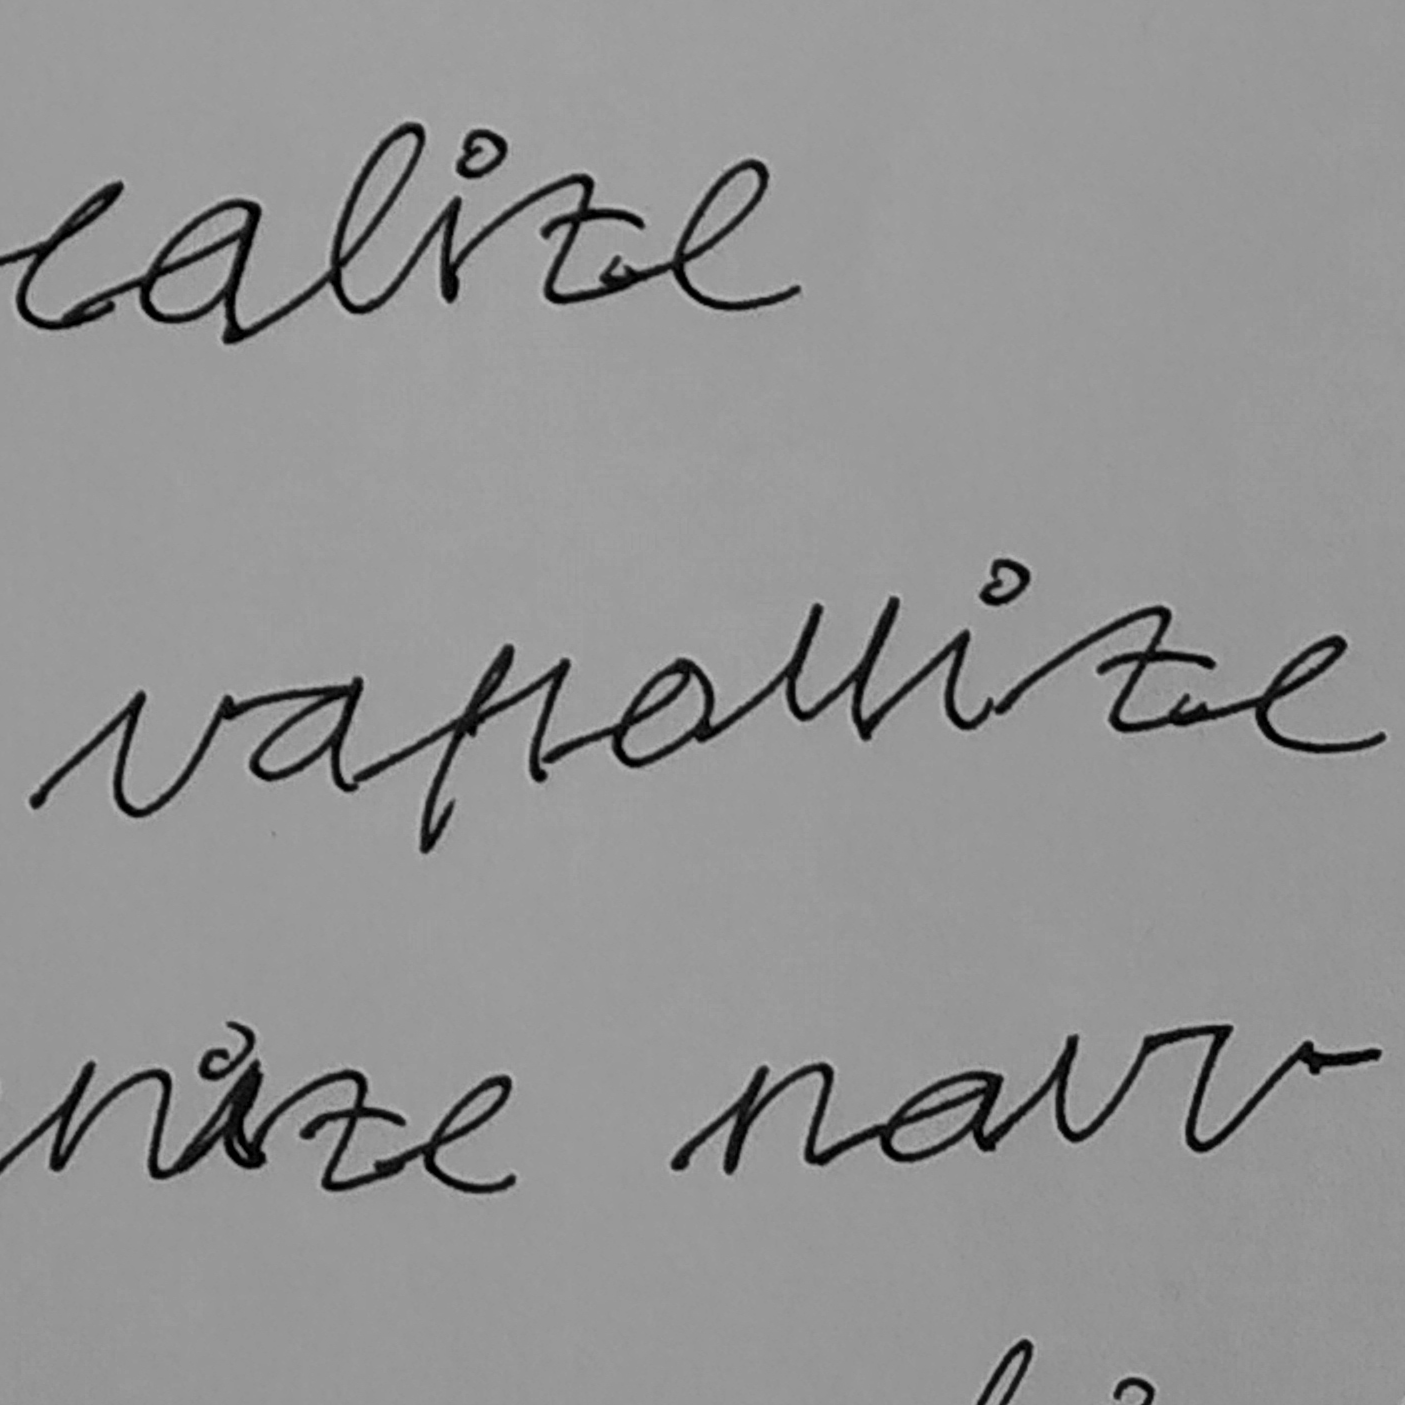a: (241, 672, 372, 798)
e: (1251, 630, 1390, 757)
i: (937, 551, 1037, 733)
o: (603, 654, 726, 771)
p: (410, 636, 575, 862)
r: (772, 591, 905, 749)
v: (104, 682, 241, 823)
z: (1083, 600, 1225, 737)
